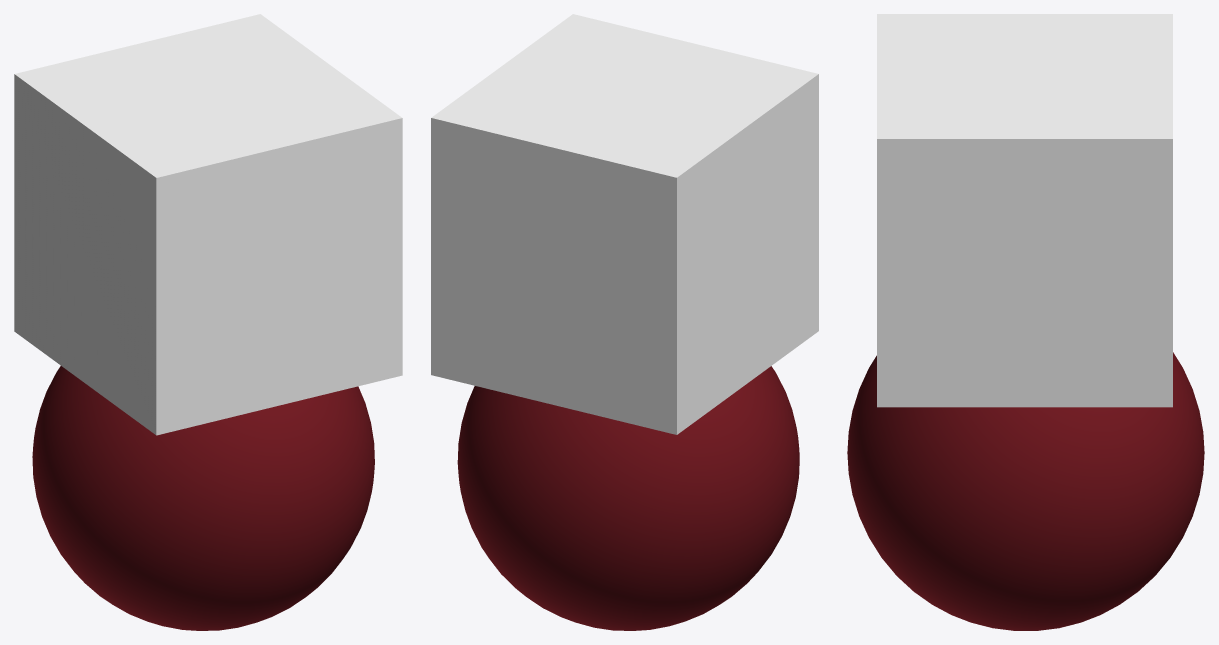
The model's file is sphere_red.glb.
3 renders of one model, left to right at view 1: azimuth 30°, elevation 25°; view 2: azimuth 150°, elevation 25°; view 3: azimuth 270°, elevation 25°, orthographic. The views are drawn at different scales.
Visible parts, largest first — view 1: placeholder, GeoSphere001; view 2: placeholder, GeoSphere001; view 3: placeholder, GeoSphere001.
Boxes of the visible parts, left/top/right/bottom form: placeholder: left=14, top=14, right=402, bottom=435; GeoSphere001: left=32, top=366, right=374, bottom=630; placeholder: left=431, top=14, right=818, bottom=434; GeoSphere001: left=457, top=366, right=799, bottom=630; placeholder: left=877, top=14, right=1172, bottom=407; GeoSphere001: left=847, top=352, right=1204, bottom=630.
Size of the model in its own units: 2.31 by 3.86 by 2.31.
